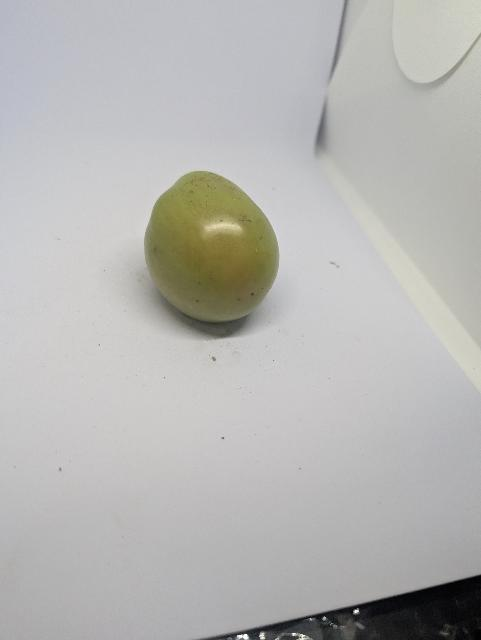green: (143, 168, 283, 325)
